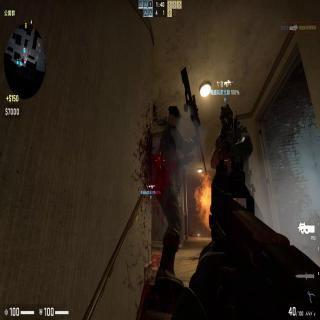CT-Head: (218, 102, 233, 129)
T-Head: (168, 105, 182, 132)
